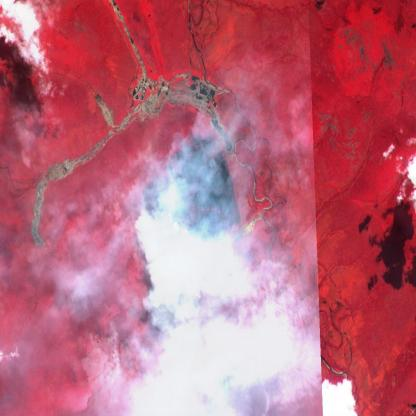fire: (139, 126, 244, 259)
